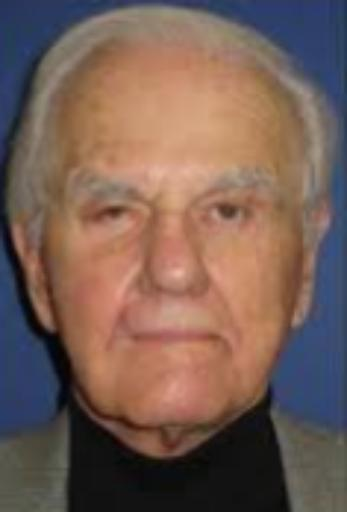left_eye: (198, 202, 254, 230)
left_lip_corner: (210, 328, 232, 349)
right_eye: (89, 203, 139, 229)
right_lip_corner: (116, 324, 152, 353)
